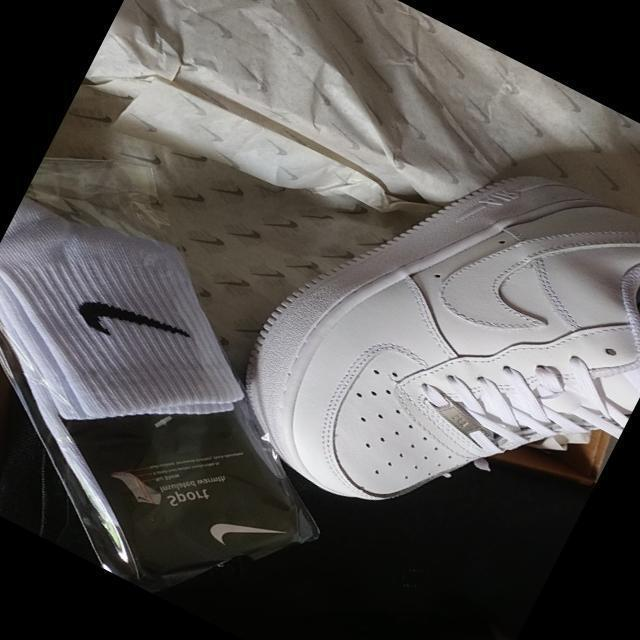nike fake air force: (201, 78, 640, 603)
